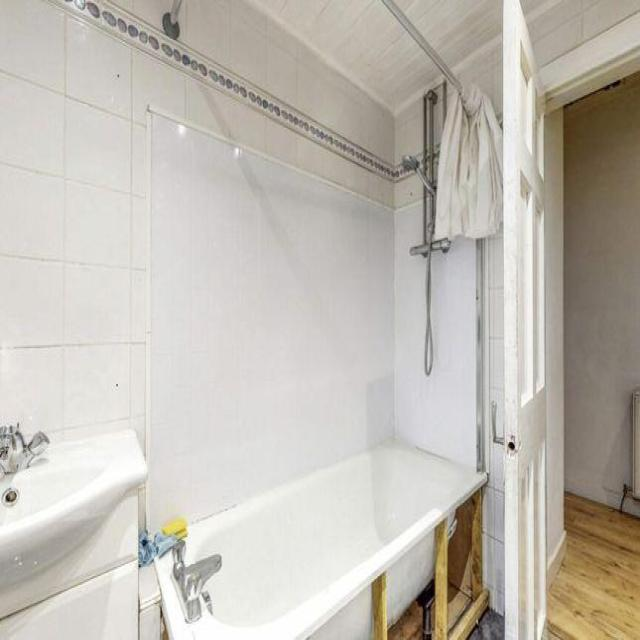Wall: (0, 0, 475, 526), (564, 73, 640, 507), (251, 0, 439, 112), (547, 493, 640, 638), (526, 0, 640, 67), (396, 0, 501, 68), (485, 234, 504, 436), (484, 424, 504, 614), (460, 36, 502, 118), (524, 0, 546, 14)
